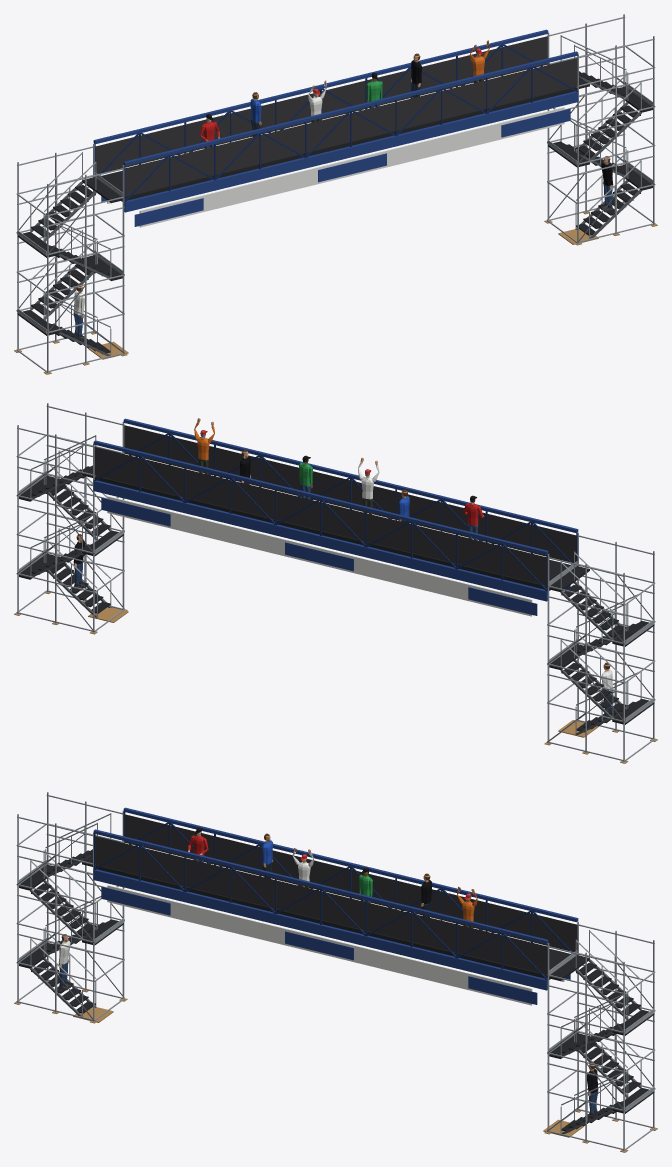
File: foot_bridge.glb
The picture shows the model from 3 angles, top to bottom: view 1: azimuth 30°, elevation 25°; view 2: azimuth 150°, elevation 25°; view 3: azimuth 330°, elevation 25°; orthographic projection.
Parts seen in each view (by area): view 1: Bridge, Fans; view 2: Bridge, Fans; view 3: Bridge, Fans.
Boxes of the visible parts, x1,y1,x2,y2 form: Bridge: (14,14,657,374); Fans: (73,40,613,339); Bridge: (14,403,657,763); Fans: (73,418,612,717); Bridge: (14,792,657,1152); Fans: (58,827,598,1117).
Bounding box in the file's own units: 21.32 × 7.28 × 2.02.
